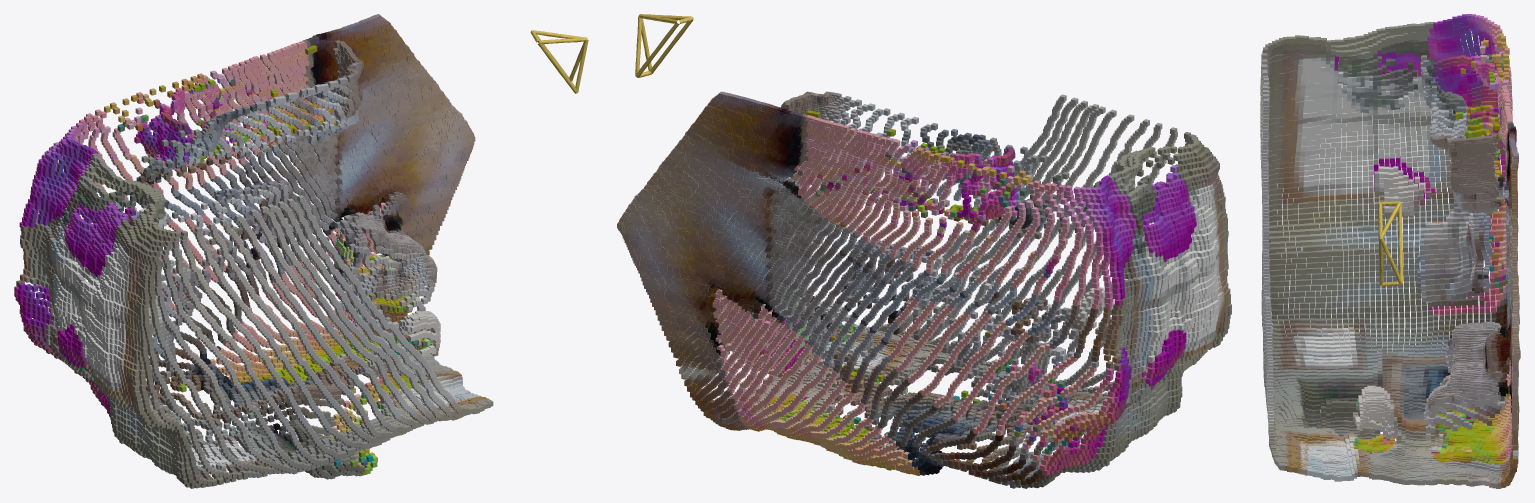
Rendered from pred_2-compressed.glb.
3 renders of one model, left to right at view 1: azimuth 30°, elevation 25°; view 2: azimuth 150°, elevation 25°; view 3: azimuth 270°, elevation 25°, orthographic. The views are drawn at different scales.
Size of the model in its own units: 6.01 by 4 by 2.56.
